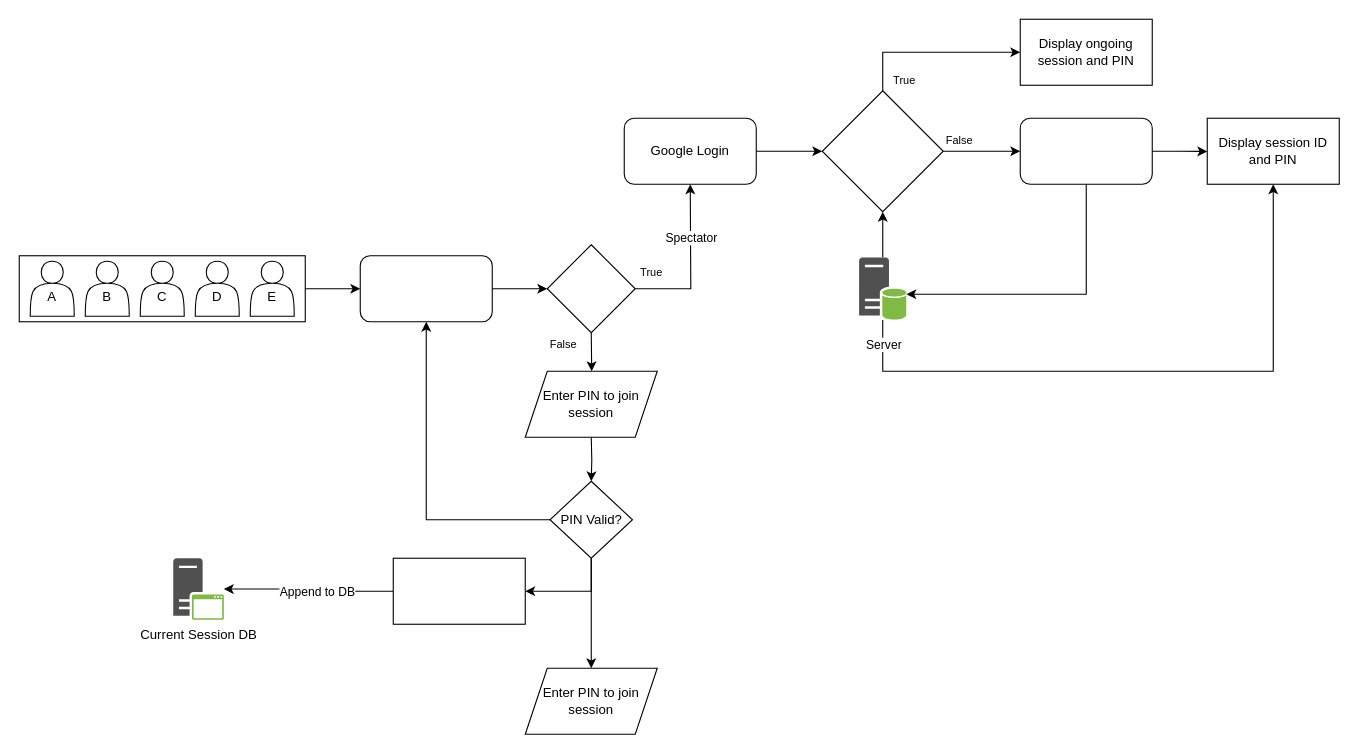
Some shapes in this 1359 by 754 pixel diagram are drawn without their labels. The box of each missing label's shape, as (x1, y1, x2, y2) in pixels:
Get current user session: (392, 557, 525, 624)
Has running sessions on DB: (821, 90, 943, 212)
host?: (546, 244, 635, 333)
Initiate a session: (1019, 117, 1152, 184)
Reload site: (359, 255, 492, 322)
